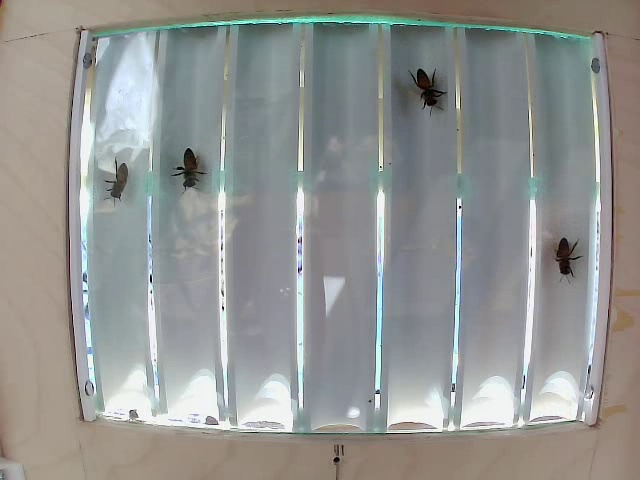bee: (402, 57, 453, 112), (171, 143, 221, 197), (98, 149, 134, 207), (555, 235, 589, 288)
